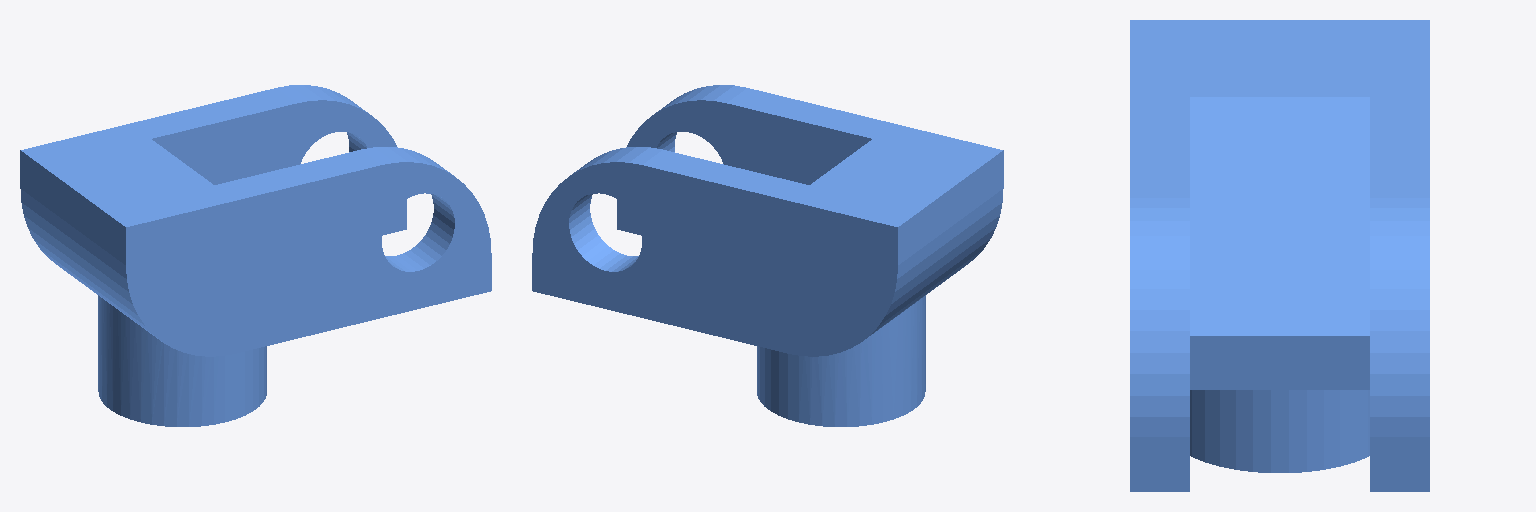
robot.urdf — tank:
<?xml version='1.0' encoding='utf-8'?>
<robot name="tank">
    
    <!-- add more codes -->
    <material name="Grey">
    <color rgba="0.2 0.2 0.2 1.0"/>
    </material>

    <material name="Orange">
    <color rgba="1.0 0.423529411765 0.0392156862745 1.0"/>
    </material>

    <material name="Blue">
    <color rgba="0.5 0.7 1.0 1.0"/>      
    </material>

    <link name="base_link">
    </link>

    <joint name="joint_0" type="fixed">
        <parent link="base_link"/>
        <child link="link_0"/>
        <origin rpy="0 0 0" xyz="0 0 0"/>
        <axis xyz="0 0 0"/>
    </joint>

    <link name="link_0">
        <visual>
        <origin rpy="0 0 0" xyz="0 0 0"/>
        <geometry>
            <mesh filename="package://tank_description/meshes/link_0.STL"/>
        </geometry>
        <material name="Grey"/>
        </visual>
    </link>

    <joint name="joint_1" type="revolute">
        <parent link="link_0"/>
        <child link="link_1"/>
        <origin rpy="0 0 0" xyz="0 0 0.03"/>
        <axis xyz="0 0 1"/>
        <limit lower="-2" upper="2" effort="0.5" velocity="0.5"/>
    </joint>

    <link name="link_1">
        <visual>
        <origin rpy="0 0 0" xyz="0 0 0"/>
        <geometry>
            <mesh filename="package://tank_description/meshes/link_1.STL"/>
        </geometry>
        <material name="Blue"/> 
        </visual>
    </link>

    <joint name="joint_2" type="revolute">
        <parent link="link_1"/>
        <child link="link_2"/>
        <origin rpy="-1.570796 0 0  " xyz="0.025 0 0 "/>
        <axis xyz="0 0 1"/>
        <limit lower="-0.01" upper="2.36" effort="0.5" velocity="0.5"/>
    </joint>

    <link name="link_2">
        <visual>
        <origin rpy="0 0 0" xyz="0 0 0"/>
        <geometry>
            <mesh filename="package://tank_description/meshes/link_2.STL"/>
        </geometry>
        <material name="Orange"/>
        </visual>
    </link>

    <joint name="joint_3" type="revolute">
        <parent link="link_2"/>
        <child link="link_3"/>
        <origin rpy="0 0 0" xyz="0.07 0 0"/>
        <axis xyz="0 0 1"/>
        <limit lower="-1.5" upper="1" effort="0.5" velocity="0.5"/>
    </joint>

    <link name="link_3">
        <visual>
        <origin rpy="0 0 0" xyz="0 0 0"/>
        <geometry>
            <mesh filename="package://tank_description/meshes/link_3.STL"/>
        </geometry>
        <material name="Blue"/>
        </visual>
    </link>

    <joint name="joint_eff" type="fixed">
        <parent link="link_3"/>
        <child link="end_effector"/>
        <origin rpy="1.570796 0 0" xyz="0.04 0 0 "/>
        <axis xyz="0 0 0"/>
    </joint>

    <link name="end_effector">
    </link>

</robot>

--- Facts derived from the render (not from the file) ---
3 views of the same robot in one strip: view 1: azimuth 30°, elevation 25°; view 2: azimuth 150°, elevation 25°; view 3: azimuth 270°, elevation 25° (orthographic).
Robot: tank — 6 links, 5 joints (3 revolute, 2 fixed); root link base_link; default pose: all joints at 0.
Links seen in each view (by area): view 1: link_1; view 2: link_1; view 3: link_1.
Link boxes in pixels (<box>): link_1: <box>20,85,491,426</box>; link_1: <box>532,85,1003,426</box>; link_1: <box>1130,20,1429,491</box>.
Size in the robot's own frame: 0.05 by 0.025 by 0.03 metres.
1 mesh visuals loaded from 4 distinct referenced files (1 binary STL); not drawn: 3 (reference not matched to a file when rendering).